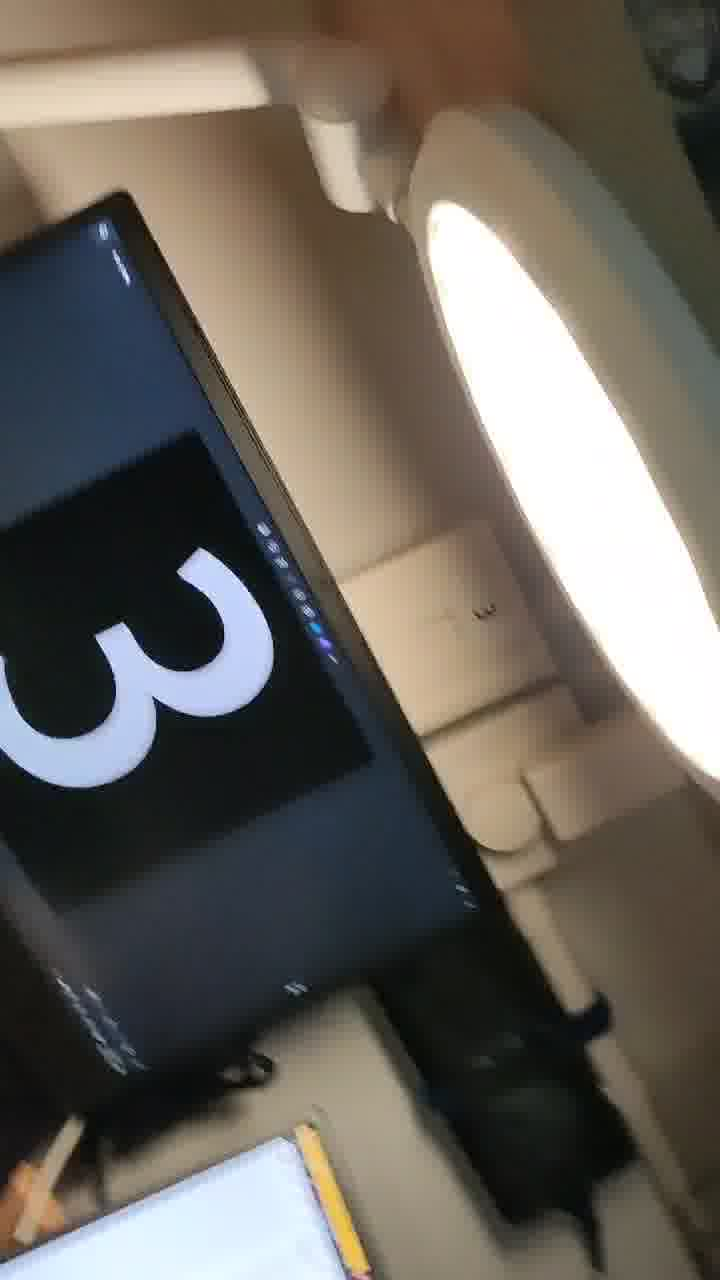three: (1, 523, 281, 838)
